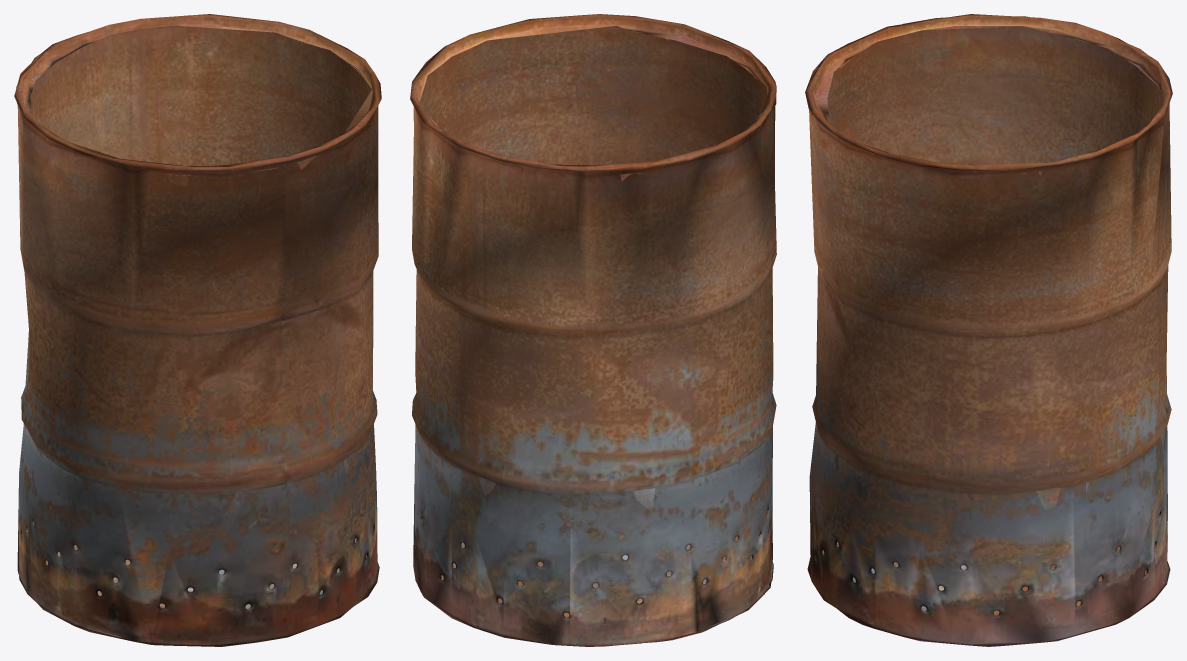
The model's file is barrel_stove.glb.
3 views of the same model, side by side, from view 1: azimuth 30°, elevation 25°; view 2: azimuth 150°, elevation 25°; view 3: azimuth 270°, elevation 25° (orthographic).
Parts seen in each view (by area): view 1: barrel_stove; view 2: barrel_stove; view 3: barrel_stove.
Boxes of the visible parts, bbox=[...] form: barrel_stove: bbox=[14, 14, 381, 646]; barrel_stove: bbox=[410, 14, 776, 646]; barrel_stove: bbox=[805, 14, 1172, 646].
Size of the model in its own units: 0.5886 by 0.8556 by 0.5925.
1 material, 1 textured.
